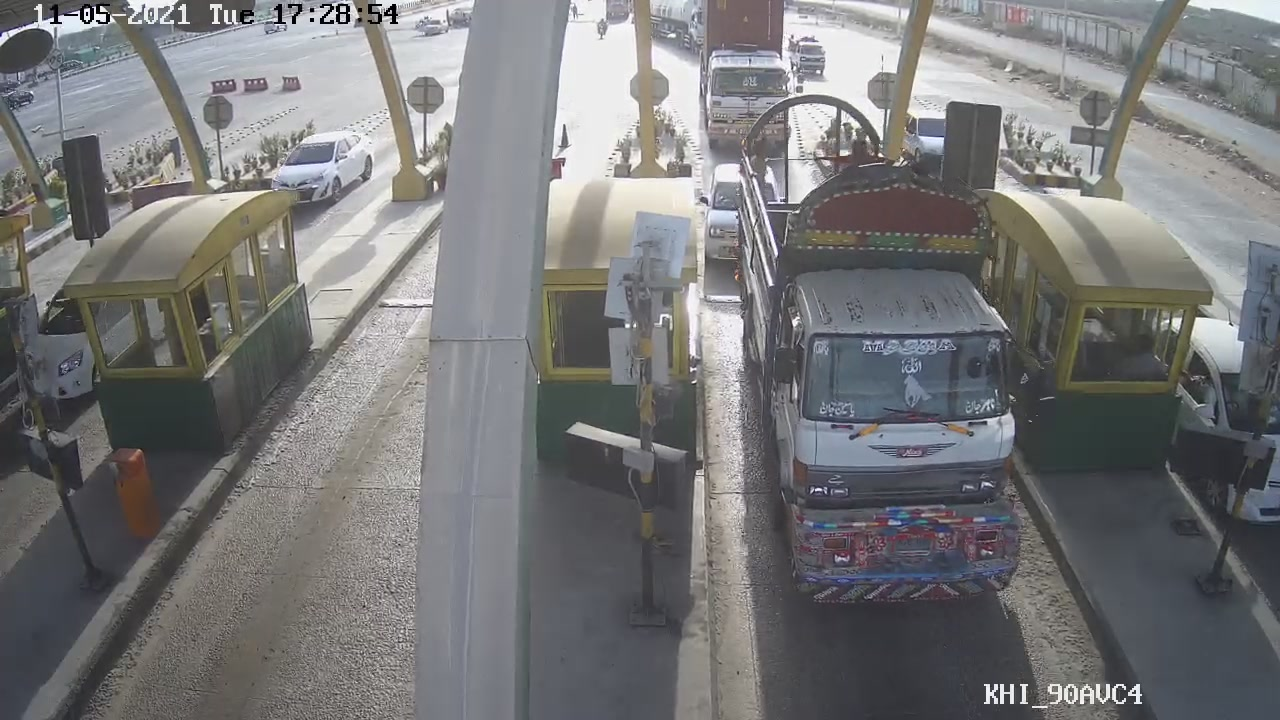F5: (734, 105, 1063, 606)
